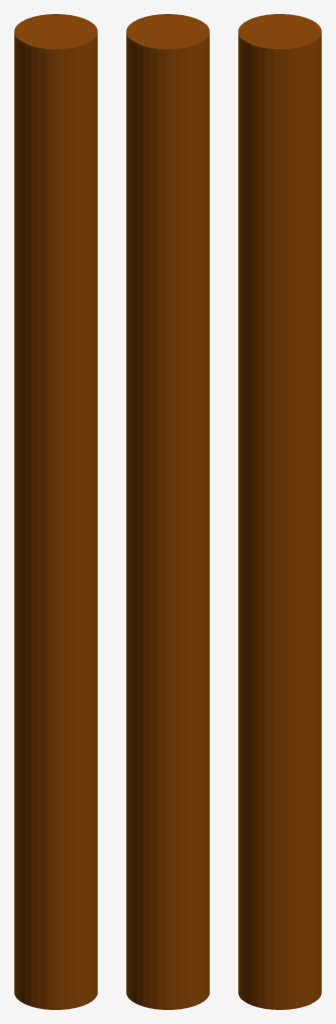
The model's file is zatana_terra_base_vis_1.dae.
3 renders of one model, left to right at view 1: azimuth 30°, elevation 25°; view 2: azimuth 150°, elevation 25°; view 3: azimuth 330°, elevation 25°, orthographic.
Parts seen in each view (by area): view 1: Node_000002318374BEC0; view 2: Node_000002318374BEC0; view 3: Node_000002318374BEC0.
Boxes of the visible parts, x1,y1,x2,y2 form: Node_000002318374BEC0: (14, 14, 97, 1009); Node_000002318374BEC0: (126, 14, 209, 1009); Node_000002318374BEC0: (238, 14, 321, 1009).
Size of the model in its own units: 0.015 by 0.19 by 0.015.
